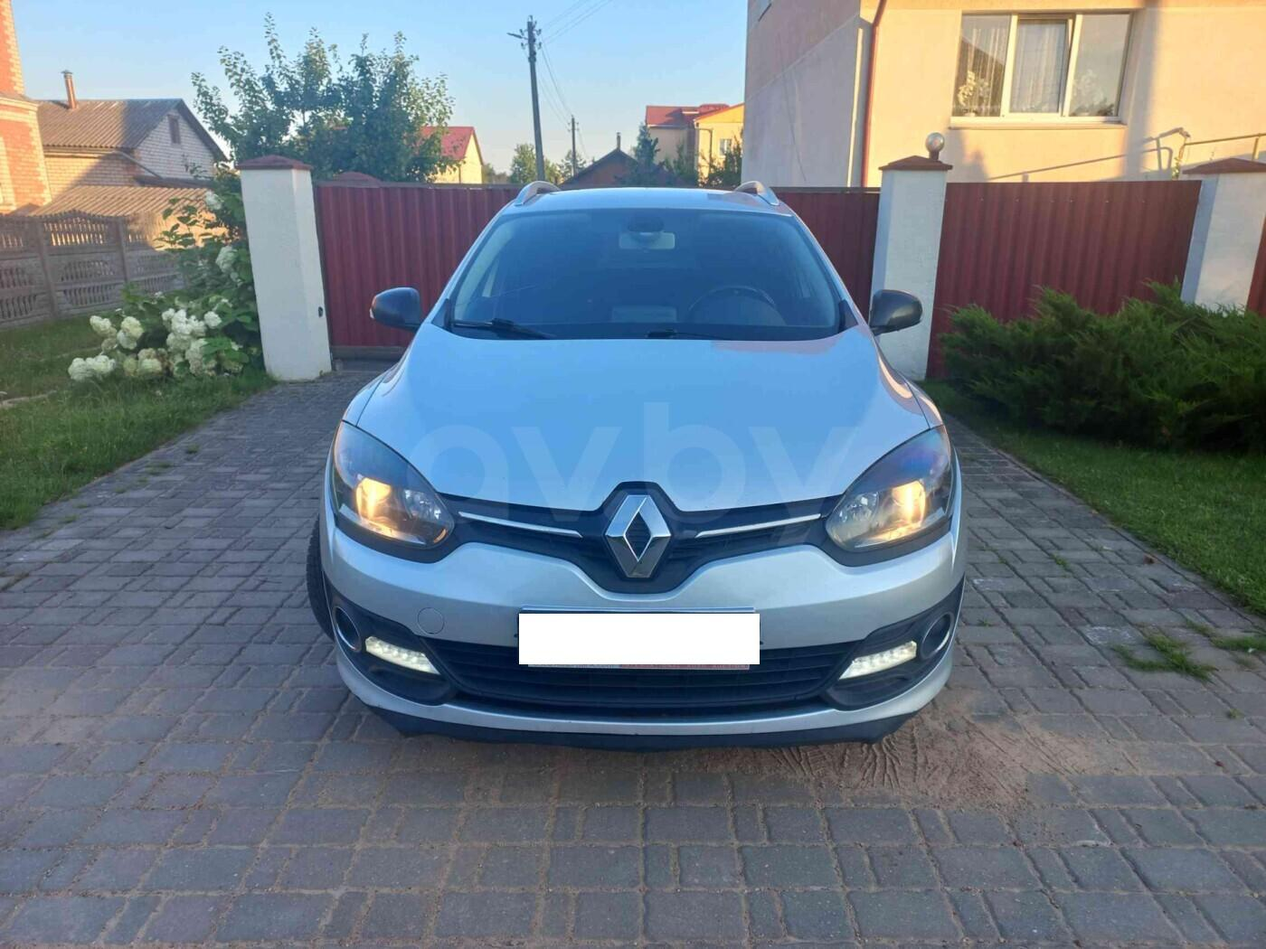Megane_2012-2014: (301, 182, 975, 744)
